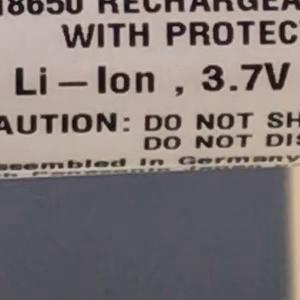keyword: (192, 52, 299, 102)
